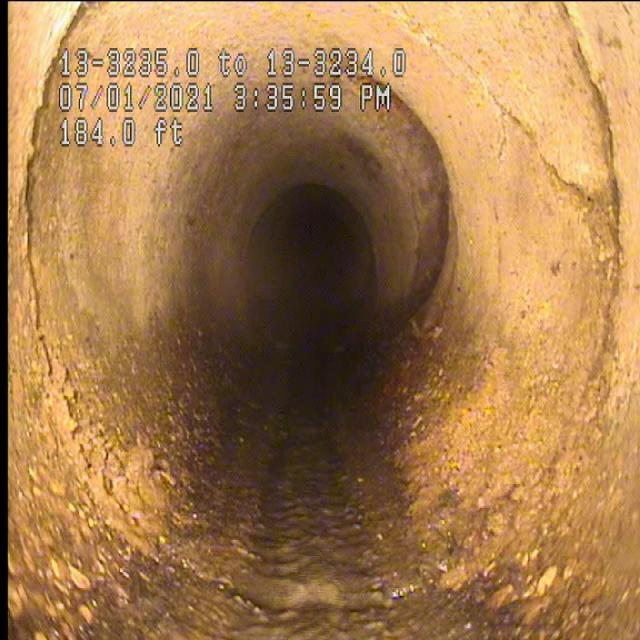Crack: (454, 52, 593, 215)
